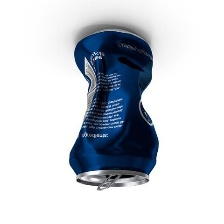can: (67, 23, 161, 194)
